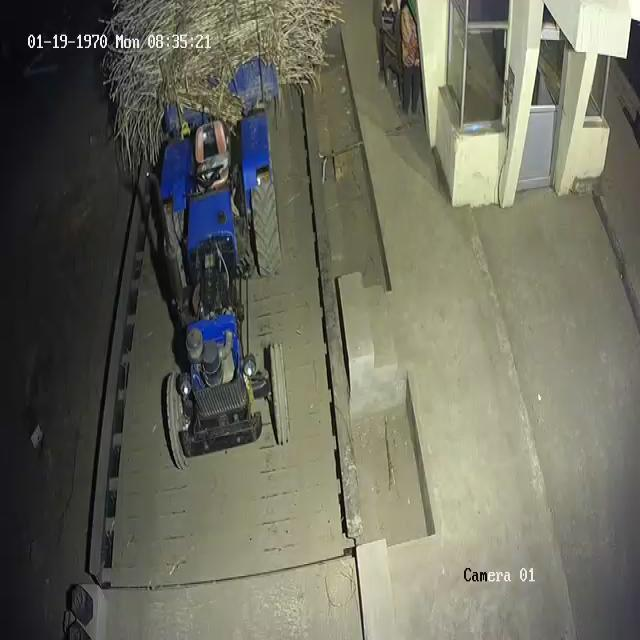Tratores - v5 YOLO V8L 2024-11-13: (150, 113, 294, 464)
